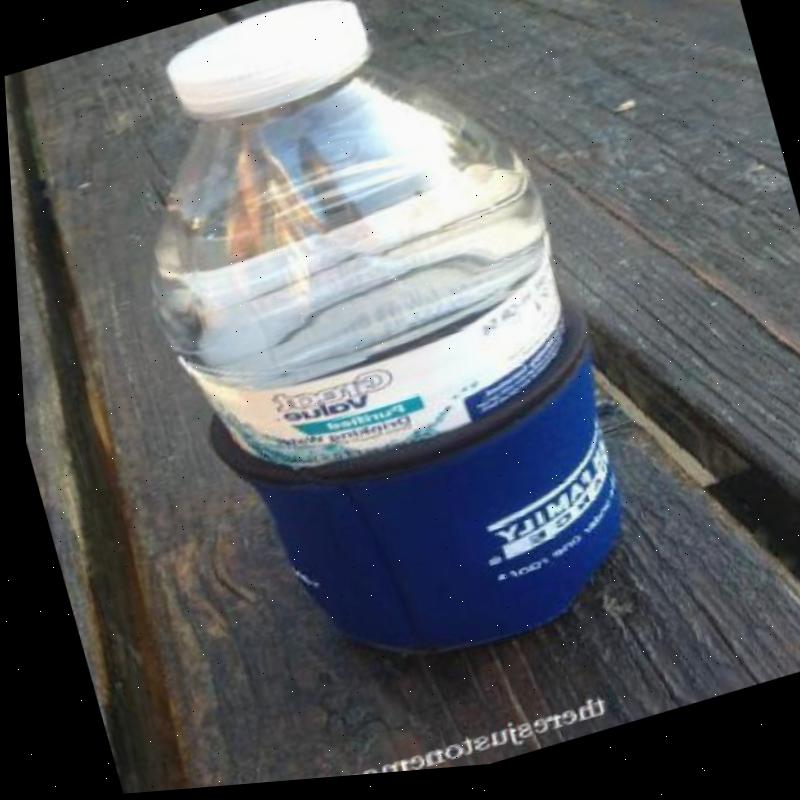botella: (78, 0, 588, 516)
